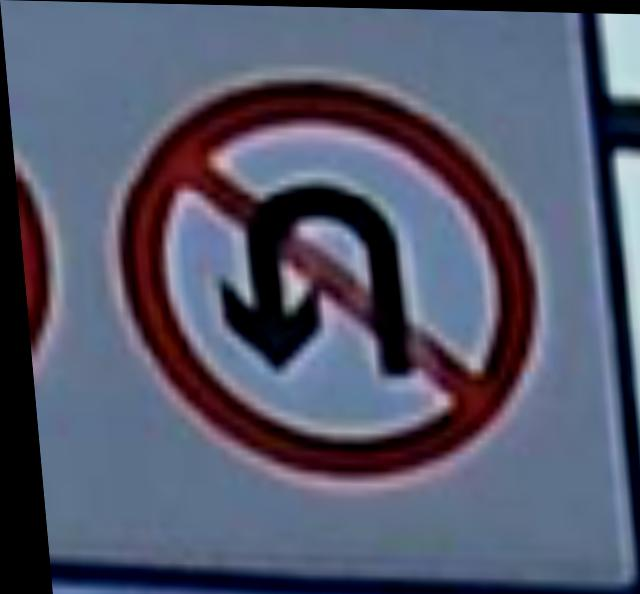not_u_turn_left: (92, 58, 544, 500)
